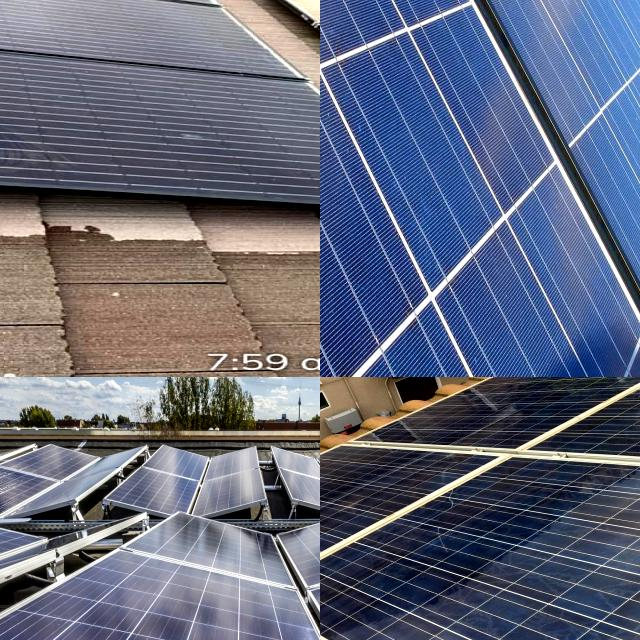crack: (320, 0, 527, 329), (320, 56, 449, 377), (430, 526, 613, 616), (320, 575, 493, 640), (522, 473, 640, 555), (578, 544, 640, 640), (69, 598, 151, 640)
dust: (226, 0, 280, 121), (74, 0, 145, 88), (163, 0, 215, 108)
